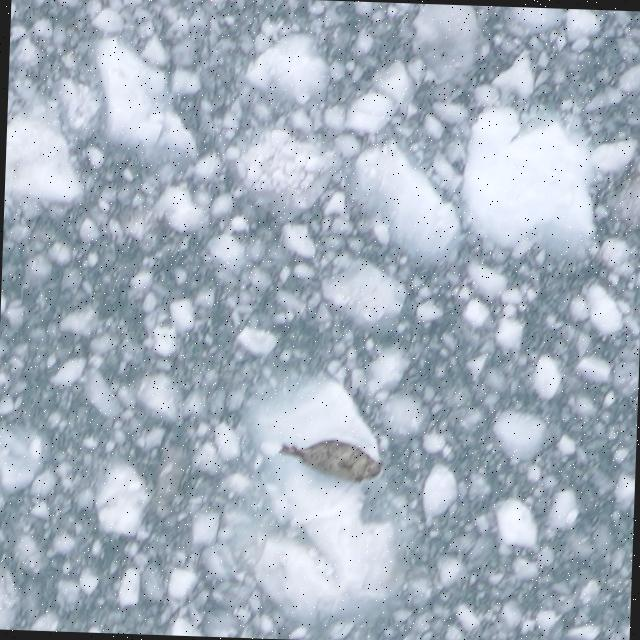seal: (272, 434, 387, 488)
